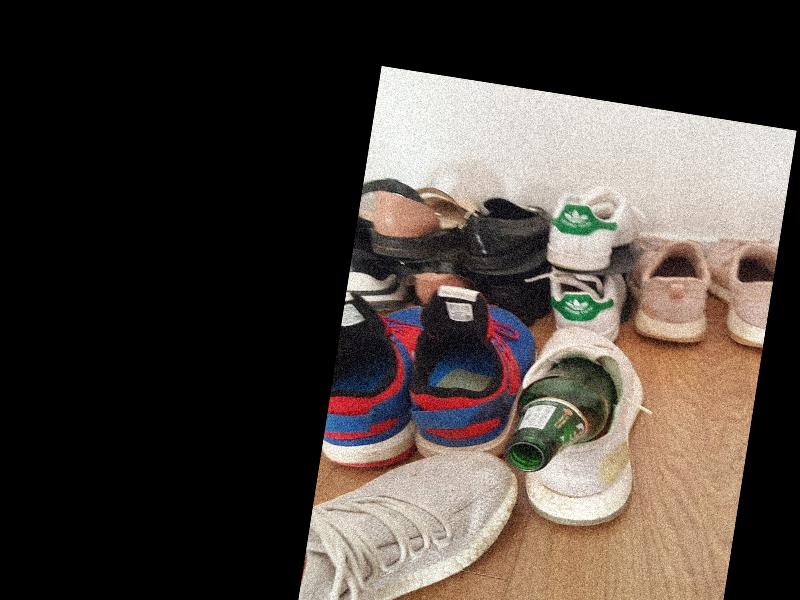Beer: (504, 350, 618, 482)
